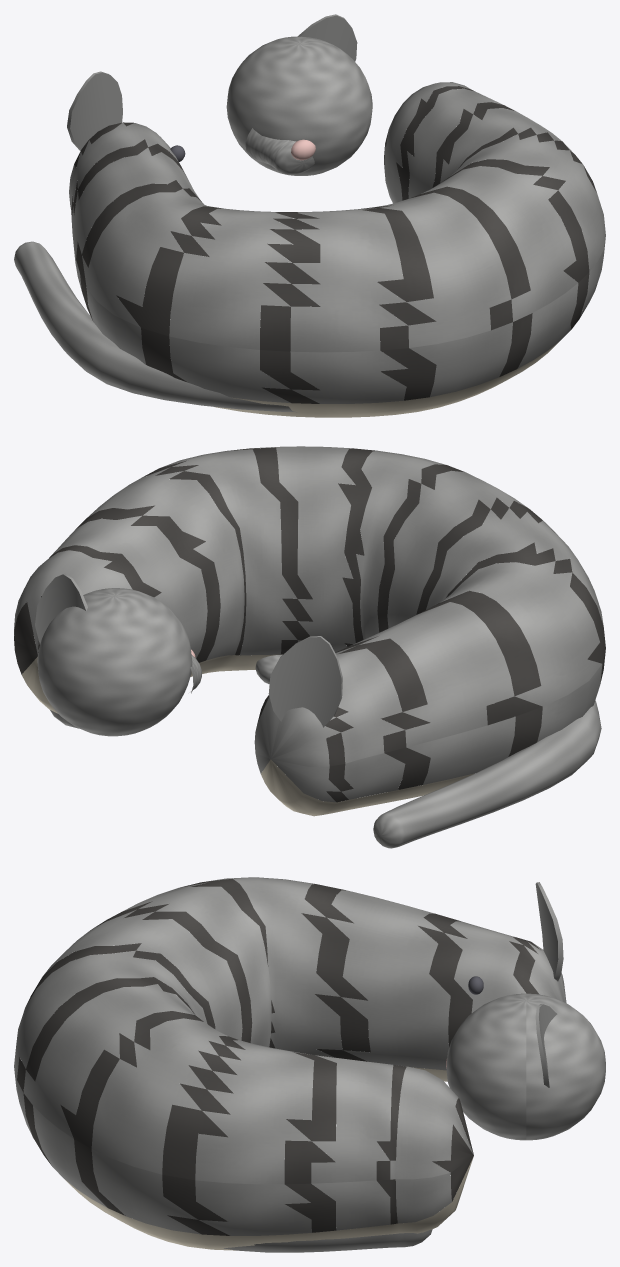
File: pets-and-companions-hd-domestic-shorthair-curled-53fa30aa__28152.glb
The picture shows the model from 3 angles, top to bottom: view 1: azimuth 30°, elevation 25°; view 2: azimuth 150°, elevation 25°; view 3: azimuth 270°, elevation 25°; orthographic projection. The views are drawn at different scales.
Visible parts, largest first — view 1: domestic-shorthair-curled; view 2: domestic-shorthair-curled; view 3: domestic-shorthair-curled.
Boxes of the visible parts, x1,y1,x2,y2 form: domestic-shorthair-curled: (14,14,605,417); domestic-shorthair-curled: (14,446,605,848); domestic-shorthair-curled: (14,877,605,1252).
Bounding box in the file's own units: 0.3721 × 0.156 × 0.3732.
Materials: 5 (3 with a texture image).
